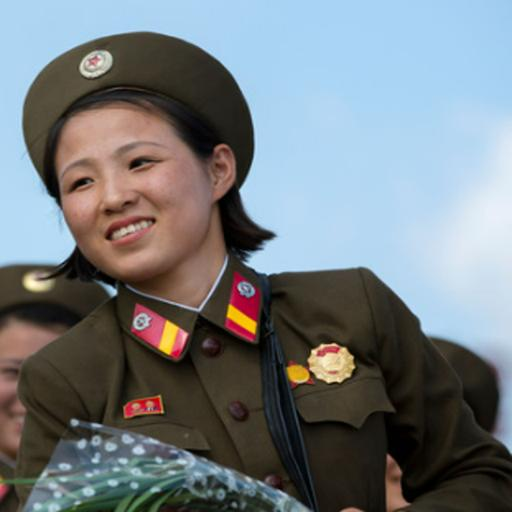north army: (8, 19, 489, 512)
